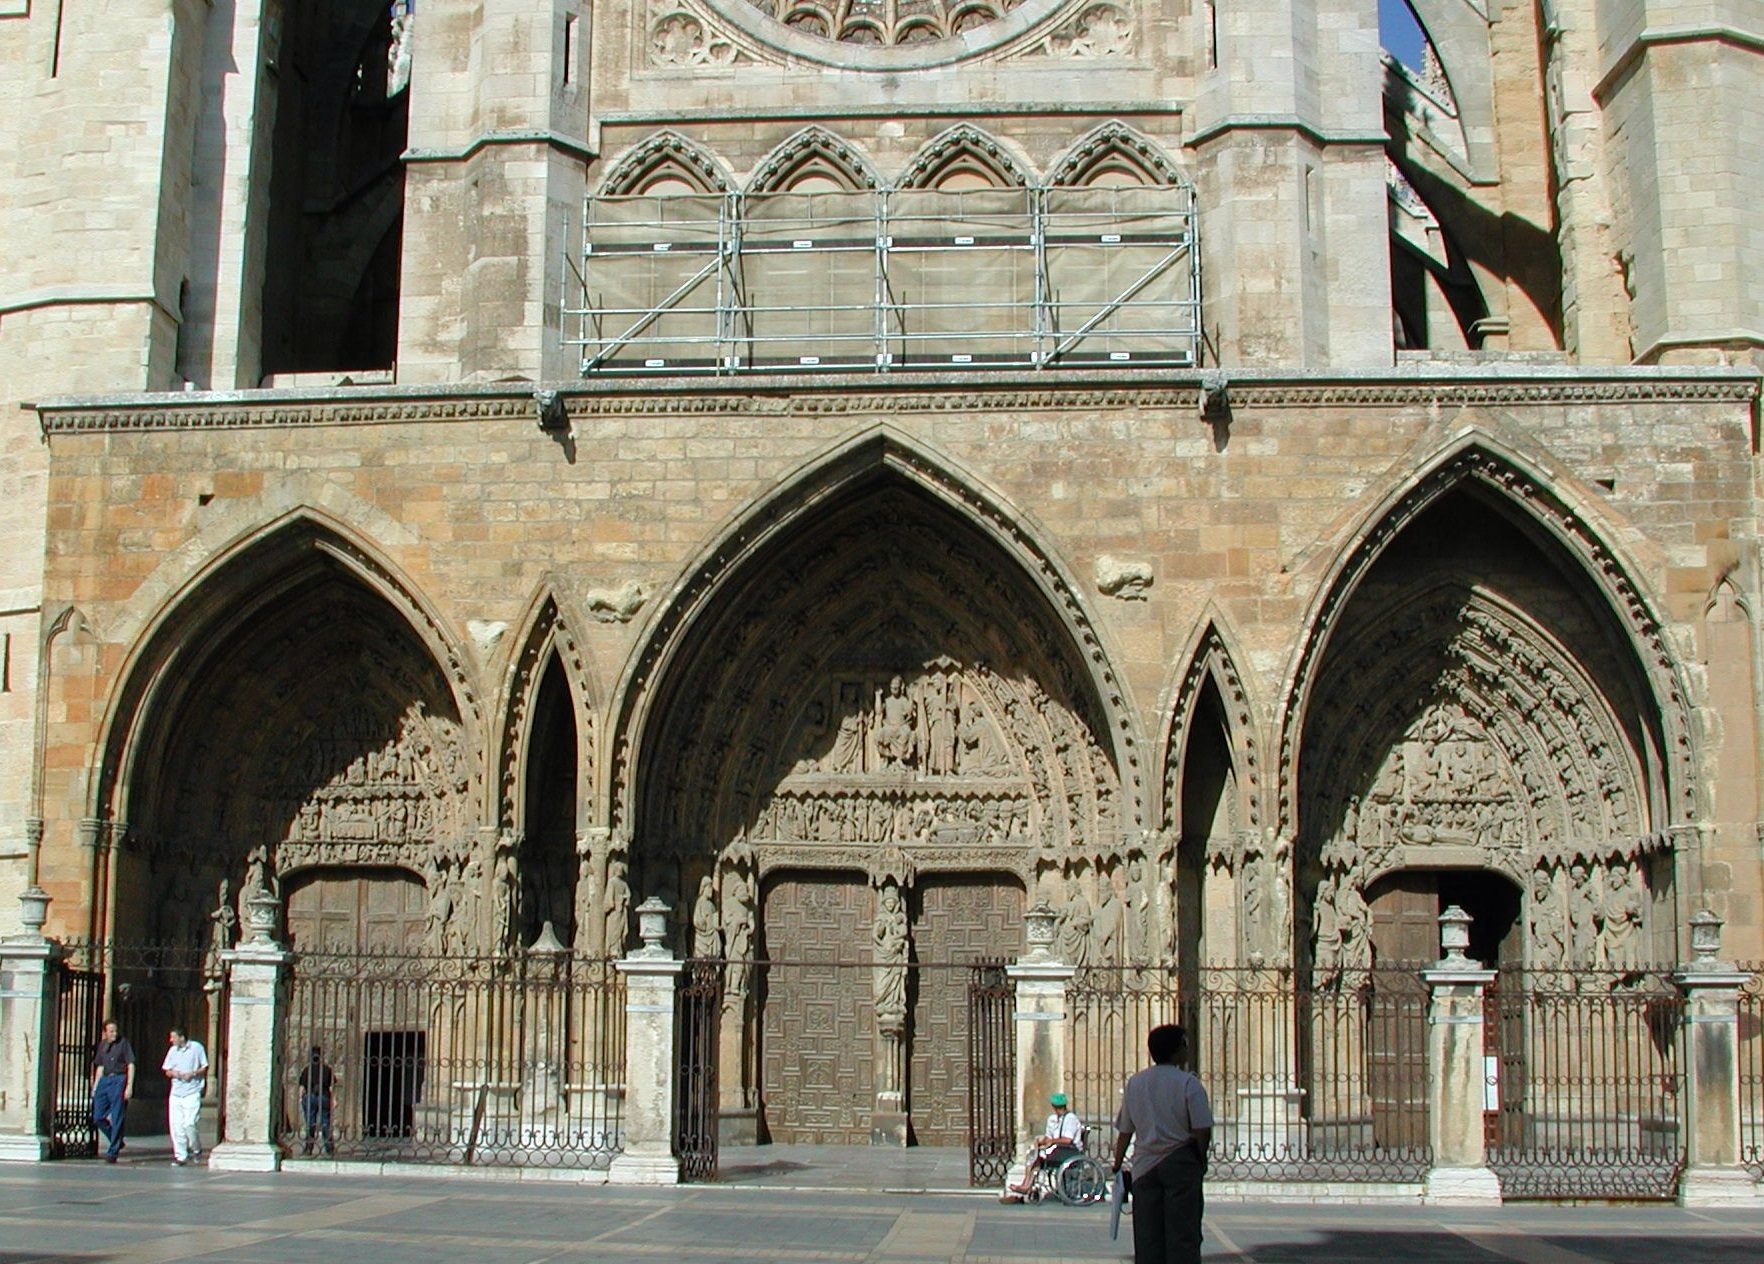arco-apuntado: (604, 417, 1154, 828), (1272, 423, 1696, 825), (92, 501, 487, 828), (487, 575, 600, 830), (1155, 595, 1270, 830)
